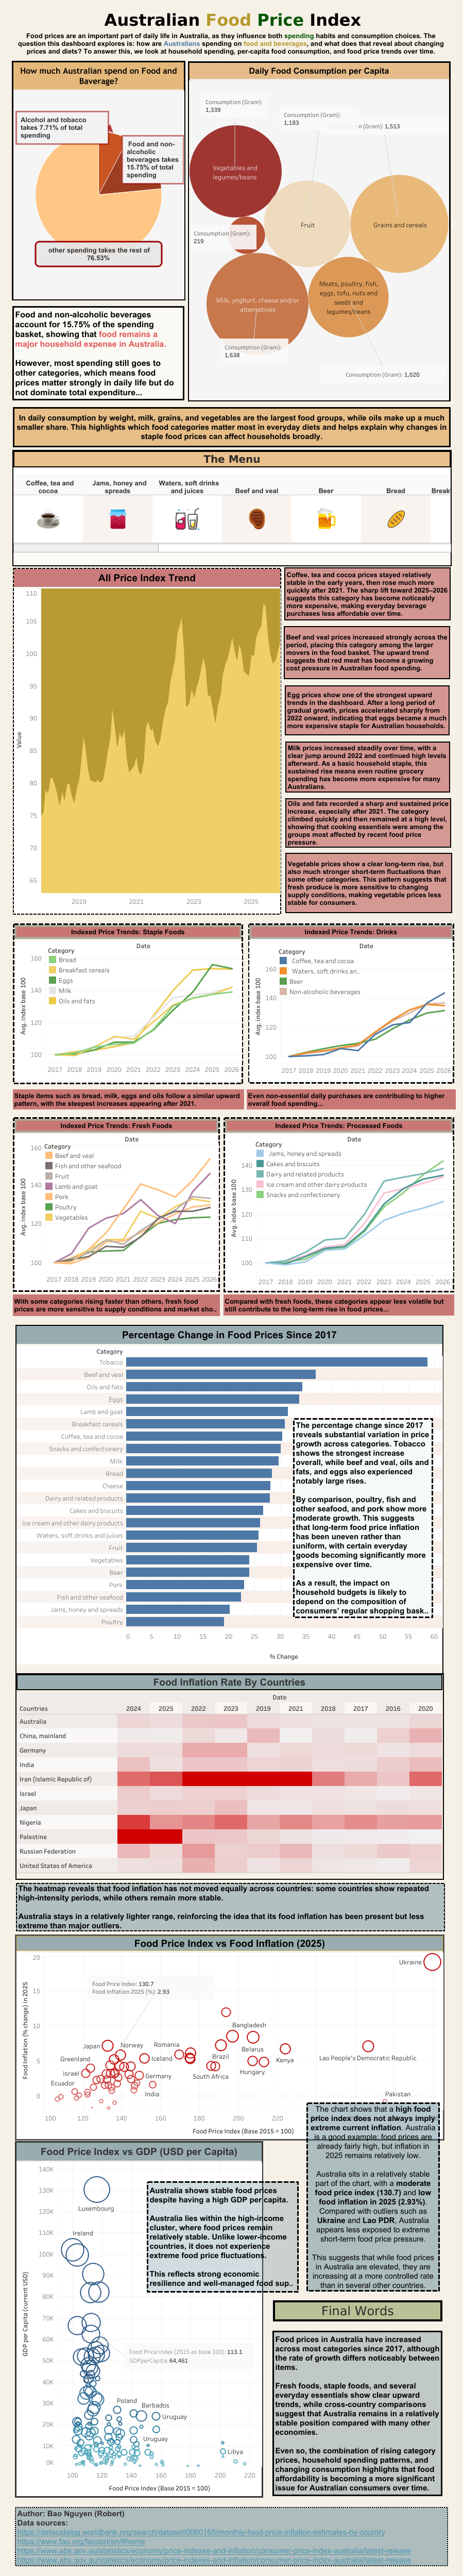

This screenshot's page, from the dashboard's own definition file:
{"tool":"tableau","page":{"name":"Dashboard 1","canvas":[900,5000],"ordinal":0},"visuals":[{"type":"title","box":[25.7,6,851.8,103]},{"type":"text","box":[24,25,849,119]},{"type":"worksheet","title":"Pie","mark":"Pie","box":[23,118,337,465]},{"type":"worksheet","title":"bubble-gram consuming ","mark":"Circle","box":[364.5,119,510.7,660]},{"type":"text","box":[24,594,334,183]},{"type":"text","box":[24.7,790,849.8,78]},{"type":"worksheet","title":"Menu","mark":"Shape","cols":["Category"],"box":[24,873,852.7,226]},{"type":"text","box":[552,1101,323,103]},{"type":"worksheet","title":"multiple area chart ","mark":"Area","rows":["Value"],"cols":["Date"],"box":[25,1102,521,673]},{"type":"text","box":[551,1215,323,103]},{"type":"text","box":[553,1330,320,97]},{"type":"text","box":[554,1439,320,99]},{"type":"text","box":[554,1549,322,96]},{"type":"text","box":[554,1655,324,117]},{"type":"worksheet","title":"indexed line chart (staple)","mark":"Line","rows":["Calculation_1270820782149634"],"cols":["Date"],"box":[24.7,1792,447,312]},{"type":"worksheet","title":"indexed line chart (drinks)","mark":"Line","rows":["Calculation_1270820782149634"],"cols":["Date"],"box":[481.5,1792,400.5,311]},{"type":"legend","title":"indexed line chart (staple)","param":"[federated.0pb08wh0j0jtyb1965y3f1crh1sh].[none:Category:nk]","box":[91.5,1833,135,189]},{"type":"legend","title":"indexed line chart (drinks)","param":"[federated.0pb08wh0j0jtyb1965y3f1crh1sh].[none:Category:nk]","box":[540,1835,165.8,129]},{"type":"text","box":[25,2114,449,39]},{"type":"text","box":[479,2114,406,39]},{"type":"worksheet","title":"indexed line chart (fresh)","mark":"Line","rows":["Calculation_1270820782149634"],"cols":["Date"],"box":[25.5,2168,401.2,339]},{"type":"worksheet","title":"indexed line chart (processed)","mark":"Line","rows":["Calculation_1270820782149634"],"cols":["Date"],"box":[434.2,2168,447.7,340]},{"type":"legend","title":"indexed line chart (processed)","param":"[federated.0pb08wh0j0jtyb1965y3f1crh1sh].[none:Category:nk]","box":[495,2209,245.2,188]},{"type":"legend","title":"indexed line chart (fresh)","param":"[federated.0pb08wh0j0jtyb1965y3f1crh1sh].[none:Category:nk]","box":[84.8,2213,175.5,254]},{"type":"text","box":[25,2512,402,42]},{"type":"text","box":[434,2512,448,41]},{"type":"worksheet","title":"change bar chart","mark":"Bar","rows":["Category"],"cols":["Calculation_1270820785201158"],"box":[30,2571,831,678]},{"type":"text","box":[569,2752,272,388]},{"type":"worksheet","title":"Across Countries ","mark":"Square","rows":["Area"],"cols":["Calculation_0366472497799168"],"box":[30,3247,832,401]},{"type":"text","box":[31,3654,833,94]},{"type":"worksheet","title":"Scatter with Food Index","mark":"Shape","rows":["Calculation_0366472598544386"],"cols":["Calculation_0366472598491137"],"box":[29,3754,834,400]},{"type":"text","box":[595,4080,259,367]},{"type":"worksheet","title":"Scatter with GDP","mark":"Shape","rows":["Value (gdpPerCapita2017-2026.csv)"],"cols":["Calculation_0366472598491137"],"box":[29,4155,482,692]},{"type":"text","box":[285,4233,295,216]},{"type":"text","box":[530,4464,329,41]},{"type":"text","box":[529,4523,330,321]},{"type":"text","box":[29,4865,841,115]}]}

Visuals, with their boxes in screenshot pixels (x1, y1, x2, y2), scaled from the page's 900x5000 canvas onto the 463x2576 screenshot:
title: (left=13, top=3, right=452, bottom=56)
text: (left=12, top=13, right=449, bottom=74)
"Pie" worksheet (Pie marks): (left=12, top=61, right=185, bottom=300)
"bubble-gram consuming " worksheet (Circle marks): (left=187, top=61, right=450, bottom=401)
text: (left=12, top=306, right=184, bottom=400)
text: (left=13, top=407, right=450, bottom=447)
"Menu" worksheet (Shape marks): (left=12, top=450, right=451, bottom=566)
text: (left=284, top=567, right=450, bottom=620)
"multiple area chart " worksheet (Area marks): (left=13, top=568, right=281, bottom=915)
text: (left=283, top=626, right=450, bottom=679)
text: (left=284, top=685, right=449, bottom=735)
text: (left=285, top=742, right=450, bottom=793)
text: (left=285, top=798, right=451, bottom=848)
text: (left=285, top=853, right=452, bottom=913)
"indexed line chart (staple)" worksheet (Line marks): (left=13, top=923, right=243, bottom=1084)
"indexed line chart (drinks)" worksheet (Line marks): (left=248, top=923, right=454, bottom=1084)
"indexed line chart (staple)" legend: (left=47, top=945, right=116, bottom=1042)
"indexed line chart (drinks)" legend: (left=278, top=946, right=363, bottom=1012)
text: (left=13, top=1089, right=244, bottom=1109)
text: (left=246, top=1089, right=455, bottom=1109)
"indexed line chart (fresh)" worksheet (Line marks): (left=13, top=1117, right=219, bottom=1291)
"indexed line chart (processed)" worksheet (Line marks): (left=224, top=1117, right=454, bottom=1292)
"indexed line chart (processed)" legend: (left=254, top=1138, right=381, bottom=1235)
"indexed line chart (fresh)" legend: (left=44, top=1140, right=134, bottom=1271)
text: (left=13, top=1294, right=220, bottom=1316)
text: (left=224, top=1294, right=454, bottom=1315)
"change bar chart" worksheet (Bar marks): (left=15, top=1324, right=443, bottom=1674)
text: (left=293, top=1418, right=433, bottom=1618)
"Across Countries " worksheet (Square marks): (left=15, top=1673, right=443, bottom=1879)
text: (left=16, top=1882, right=444, bottom=1931)
"Scatter with Food Index" worksheet (Shape marks): (left=15, top=1934, right=444, bottom=2140)
text: (left=306, top=2102, right=439, bottom=2291)
"Scatter with GDP" worksheet (Shape marks): (left=15, top=2141, right=263, bottom=2497)
text: (left=147, top=2181, right=298, bottom=2292)
text: (left=272, top=2300, right=442, bottom=2321)
text: (left=272, top=2330, right=442, bottom=2496)
text: (left=15, top=2506, right=448, bottom=2566)
